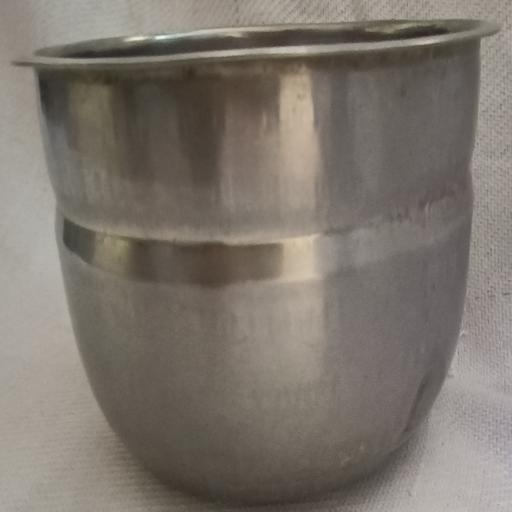vessel: (16, 20, 498, 503)
